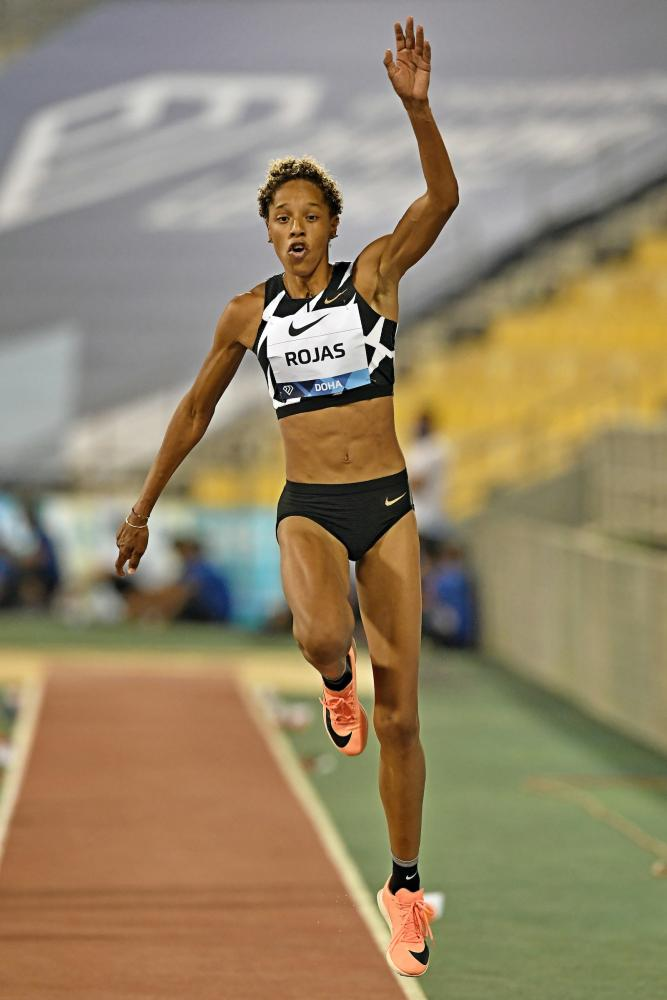runner: (108, 13, 493, 980)
